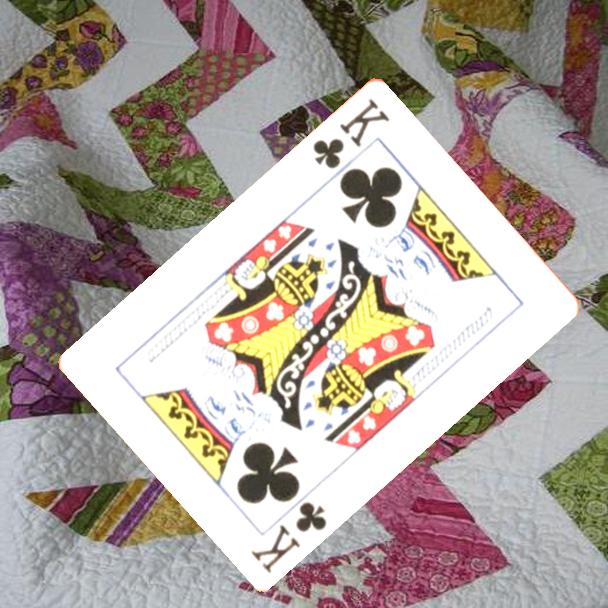c13: (309, 94, 393, 172), (247, 497, 330, 575)
